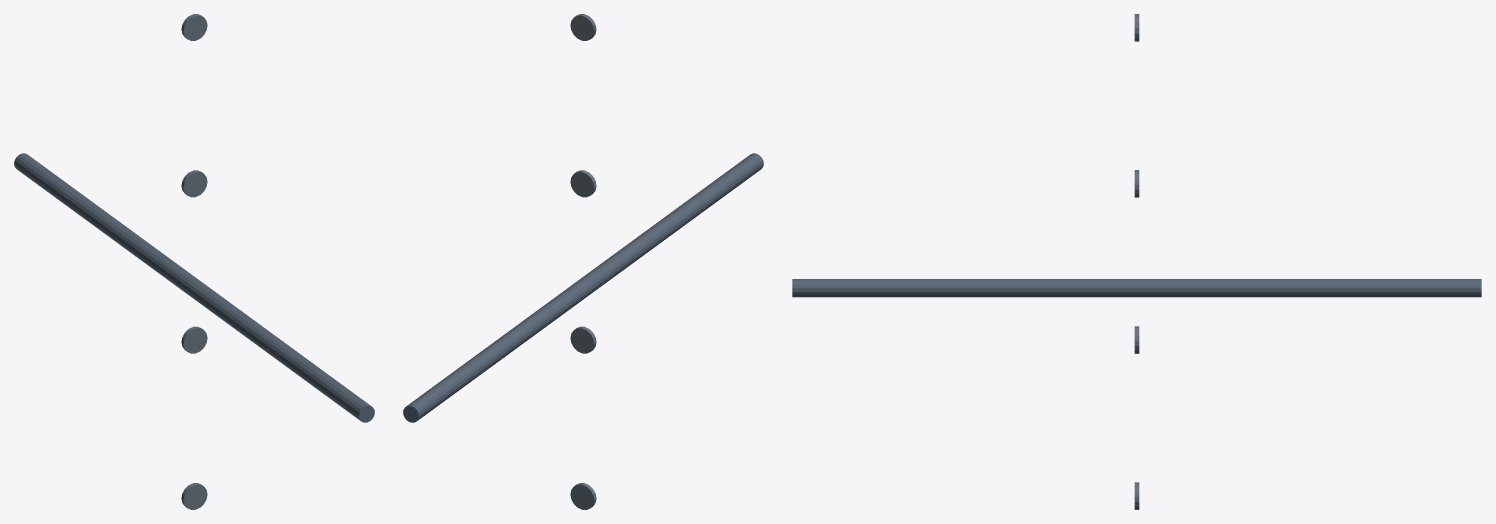
File: Lab_Pipe_Network.fbx
The picture shows the model from 3 angles, left to right: view 1: azimuth 30°, elevation 25°; view 2: azimuth 150°, elevation 25°; view 3: azimuth 270°, elevation 25°; orthographic projection.
Parts seen in each view (by area): view 1: Lab_Pipe_Network; view 2: Lab_Pipe_Network; view 3: Lab_Pipe_Network.
Part boxes in pixels (<box>): Lab_Pipe_Network: <box>14,14,374,509</box>; Lab_Pipe_Network: <box>403,14,763,509</box>; Lab_Pipe_Network: <box>792,14,1481,509</box>.
Size of the model in its own units: 0.48 by 9.48 by 12.
